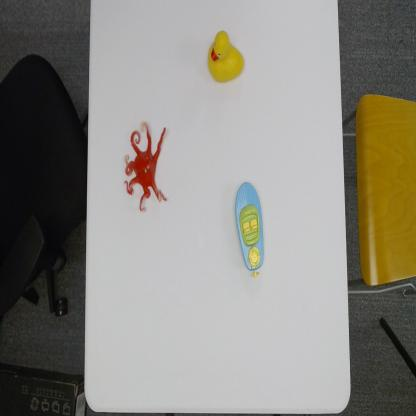Boat: (234, 180, 265, 280)
Duck: (206, 28, 245, 84)
Octopus: (123, 119, 168, 214)
